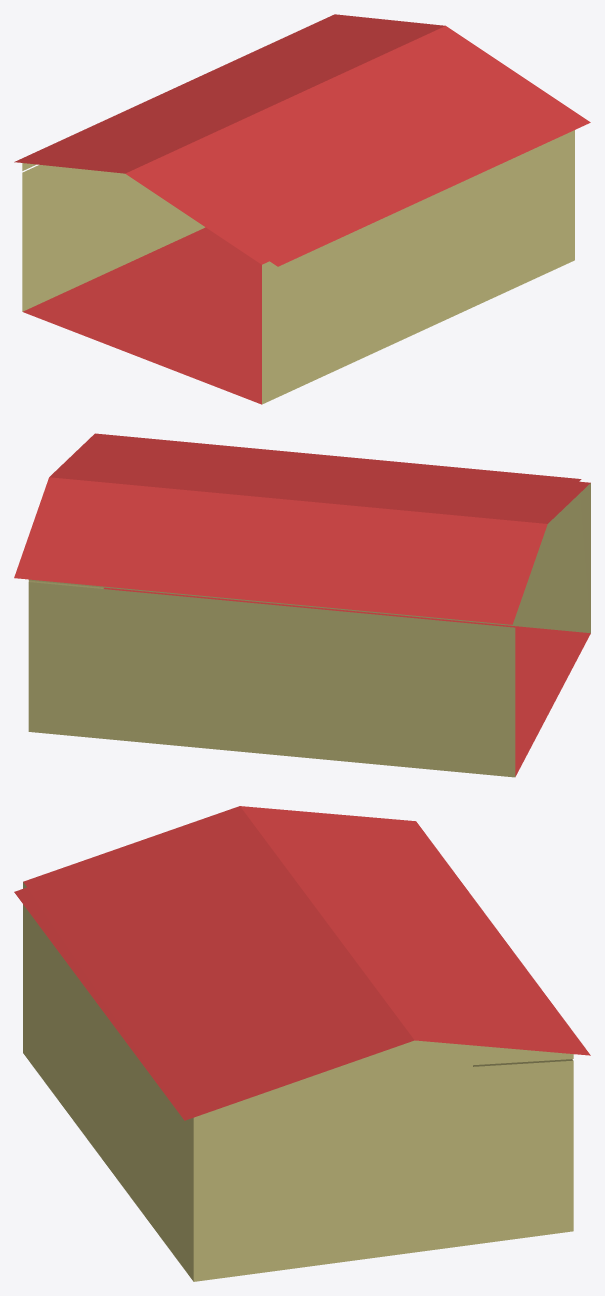
3 views of the same model, one above another, from view 1: azimuth 30°, elevation 25°; view 2: azimuth 150°, elevation 25°; view 3: azimuth 270°, elevation 25° (orthographic). The views are drawn at different scales.
Size of the model in its own units: 36.77 by 31.07 by 12.97.
